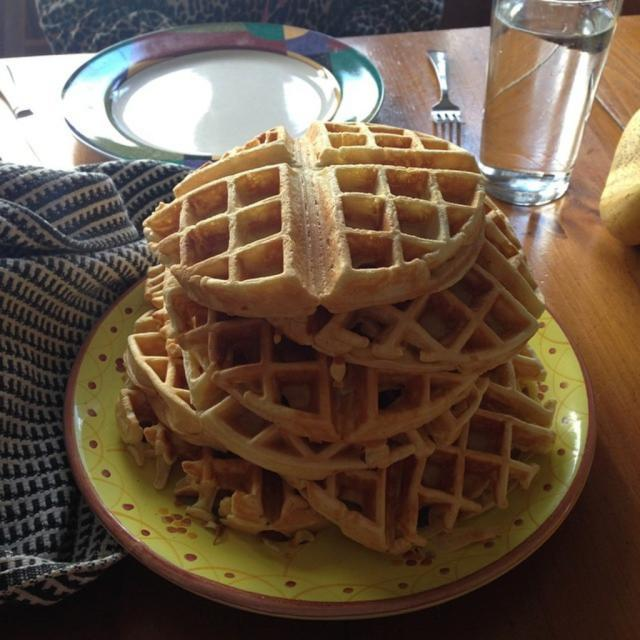Waffle: (110, 113, 565, 564)
